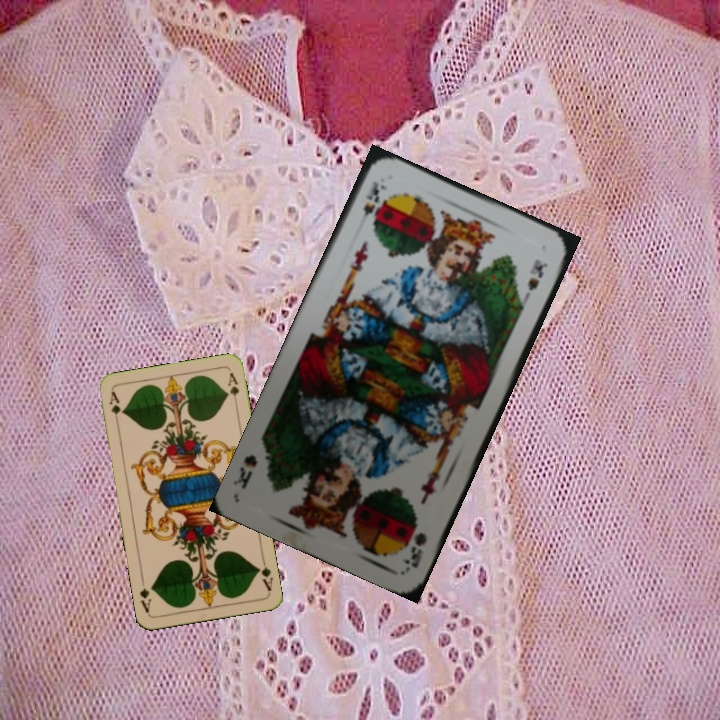GA: (253, 554, 275, 594), (105, 388, 124, 428)
SK: (353, 177, 390, 231), (398, 528, 430, 571)
